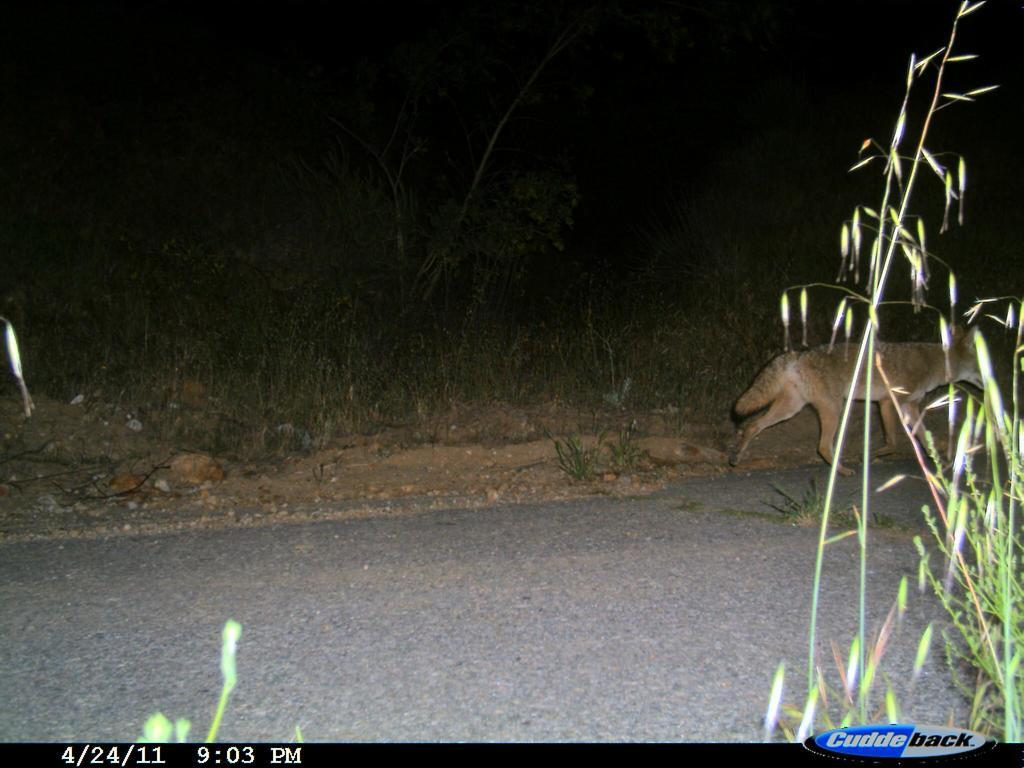coyote: (720, 315, 1000, 483)
